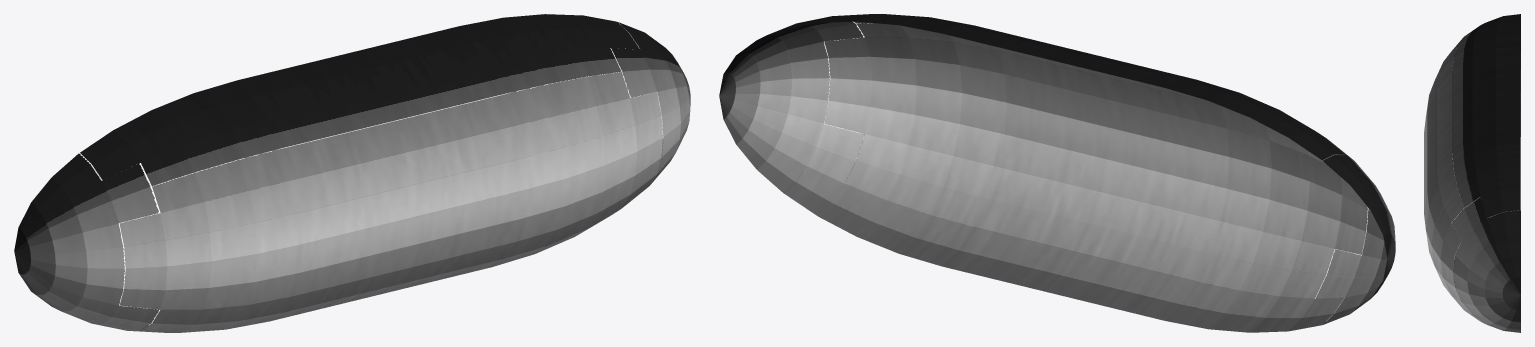
File: shipInterior_fbx.fbx
The picture shows the model from 3 angles, left to right: view 1: azimuth 30°, elevation 25°; view 2: azimuth 150°, elevation 25°; view 3: azimuth 270°, elevation 25°; orthographic projection. The views are drawn at different scales.
Parts seen in each view (by area): view 1: shipInside; view 2: shipInside; view 3: shipInside.
Part boxes in pixels (<box>): shipInside: <box>14,14,690,332</box>; shipInside: <box>719,14,1395,332</box>; shipInside: <box>1424,14,1520,332</box>.
Bounding box in the file's own units: 60 × 20 × 10.1.
